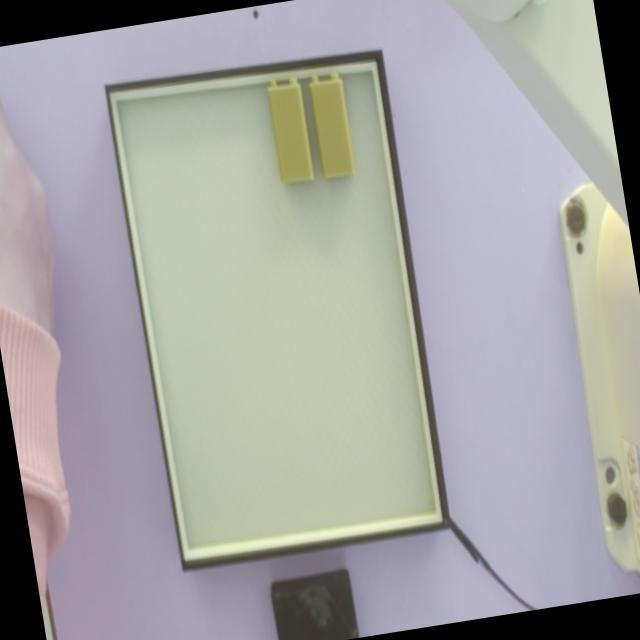bateria: (267, 77, 316, 182), (308, 74, 357, 179)
mesa: (105, 48, 451, 573)
